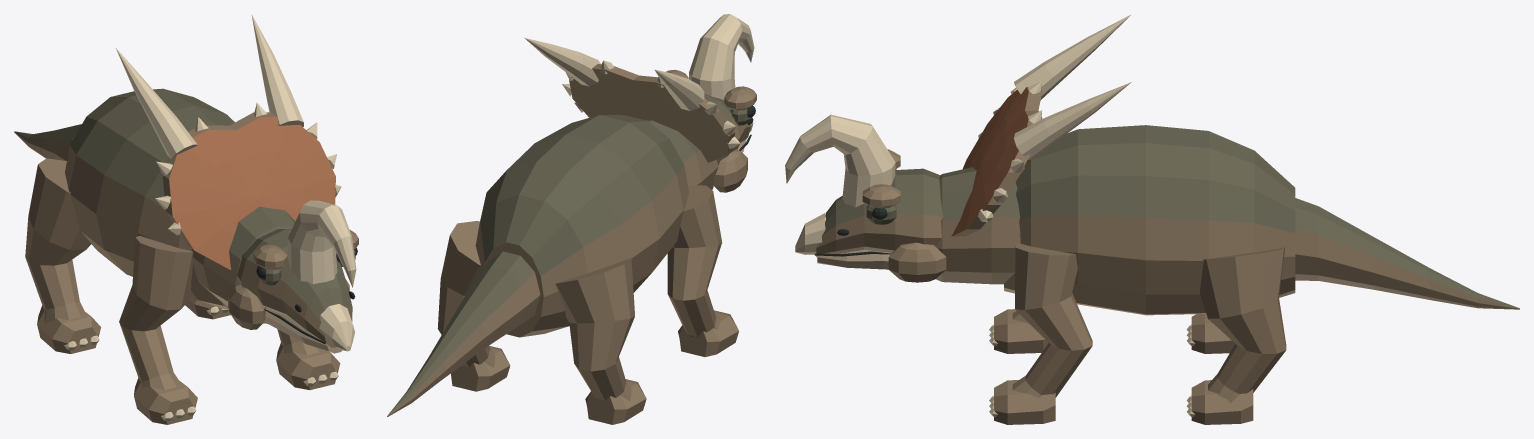
3 renders of one model, left to right at view 1: azimuth 30°, elevation 25°; view 2: azimuth 150°, elevation 25°; view 3: azimuth 270°, elevation 25°, orthographic. The views are drawn at different scales.
Visible parts, largest first — view 1: anatomy_editable_semantic_parts; view 2: anatomy_editable_semantic_parts; view 3: anatomy_editable_semantic_parts.
Part boxes in pixels (left/top/right/bottom): anatomy_editable_semantic_parts: left=14, top=15, right=358, bottom=424; anatomy_editable_semantic_parts: left=387, top=14, right=756, bottom=424; anatomy_editable_semantic_parts: left=785, top=14, right=1519, bottom=424.
Size of the model in its own units: 1.86 by 2.98 by 6.
